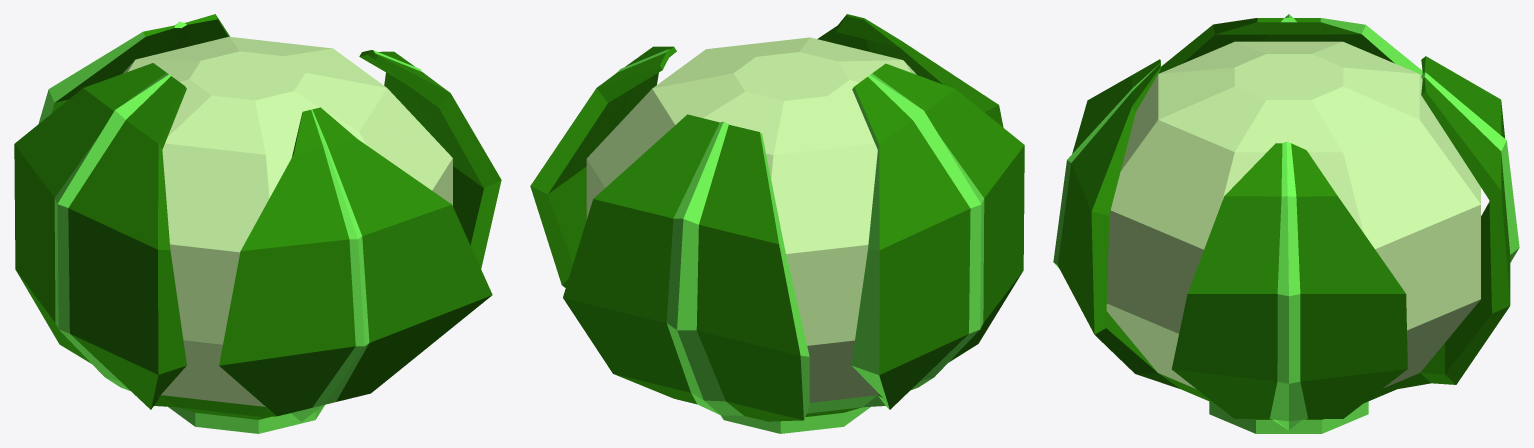
File: cauliflower01.gltf
3 views of the same model, side by side, from view 1: azimuth 30°, elevation 25°; view 2: azimuth 150°, elevation 25°; view 3: azimuth 270°, elevation 25° (orthographic).
Visible parts, largest first — view 1: Cylinder; view 2: Cylinder; view 3: Cylinder.
Boxes of the visible parts, x1,y1,x2,y2 form: Cylinder: (14, 14, 501, 433); Cylinder: (530, 14, 1024, 433); Cylinder: (1053, 14, 1519, 433).
Size of the model in its own units: 0.1395 by 0.1147 by 0.1409.
1 material, 1 textured.
